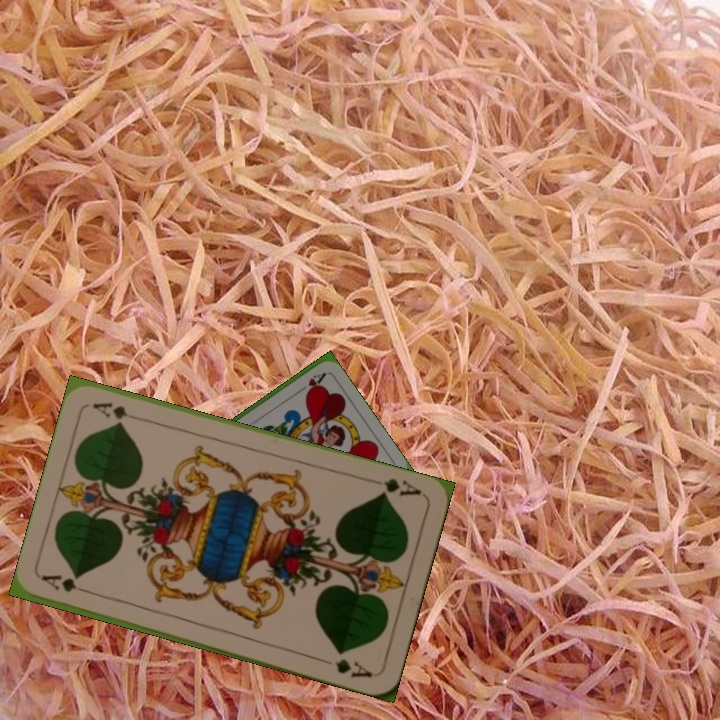GA: (38, 571, 96, 597), (376, 474, 424, 499)
HA: (291, 369, 328, 397)
